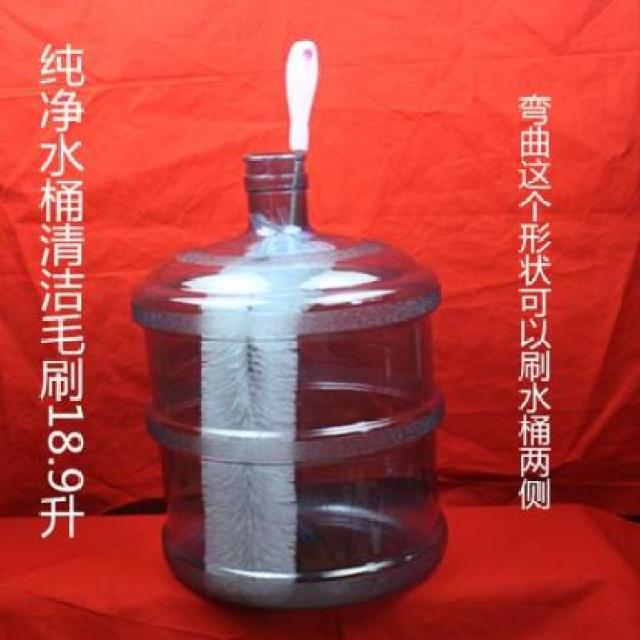coolerbottle: (121, 146, 452, 618)
